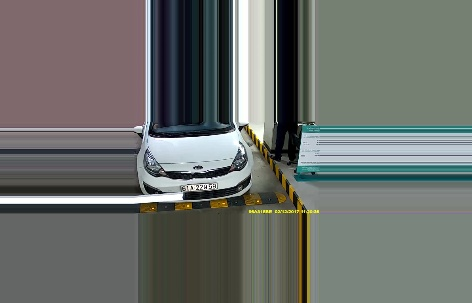plate: (180, 183, 217, 192)
